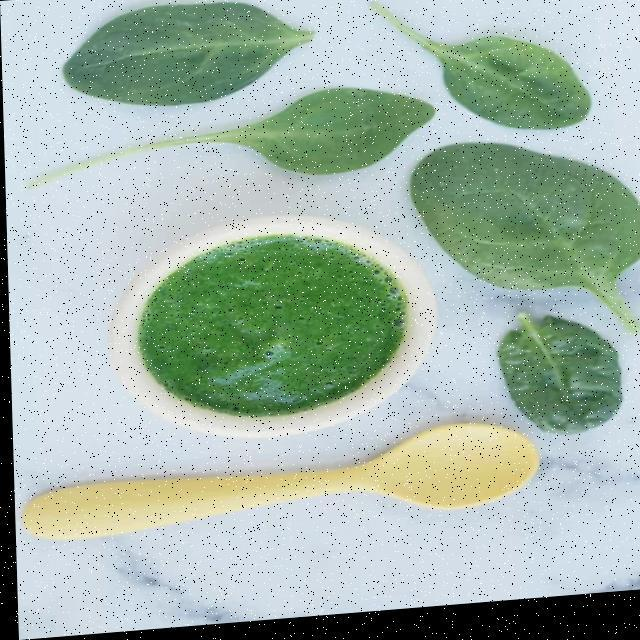Spinach: (16, 80, 442, 228), (398, 131, 640, 369), (349, 0, 609, 162), (43, 0, 330, 129), (483, 301, 630, 459)
